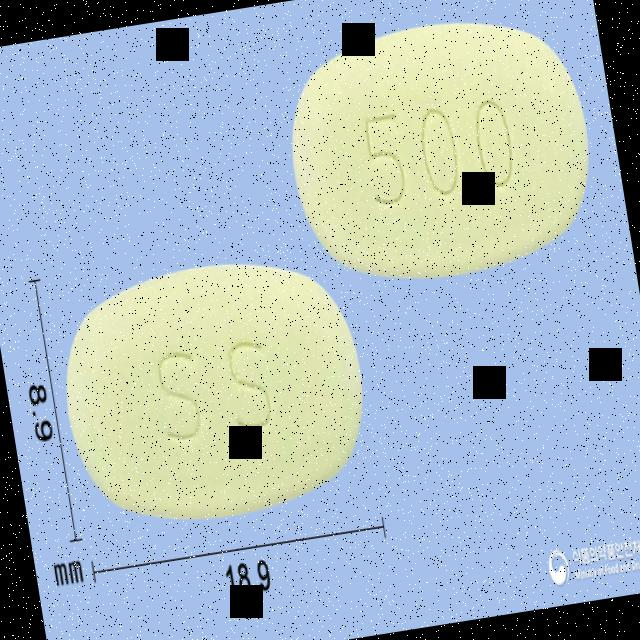Samsung Clarithromycin Tab-500mg: (49, 242, 382, 540), (275, 3, 607, 295)
